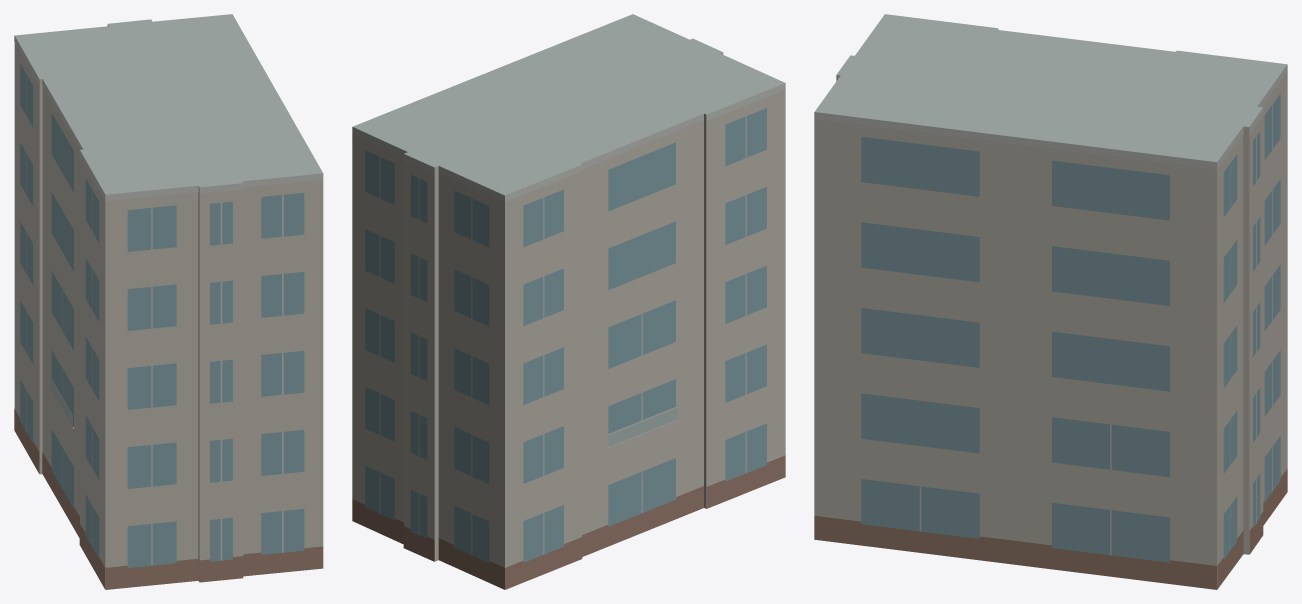
The model's file is survey-upis-32656396.glb.
3 views of the same model, side by side, from view 1: azimuth 30°, elevation 25°; view 2: azimuth 150°, elevation 25°; view 3: azimuth 270°, elevation 25° (orthographic). The views are drawn at different scales.
Parts seen in each view (by area): view 1: survey-upis-32656396.tmp; view 2: survey-upis-32656396.tmp; view 3: survey-upis-32656396.tmp.
Part boxes in pixels (x1,y1,x2,y2): survey-upis-32656396.tmp: (14,14,323,589); survey-upis-32656396.tmp: (352,14,785,589); survey-upis-32656396.tmp: (814,14,1287,589).
Bounding box in the file's own units: 10.86 × 14.6 × 14.65.
